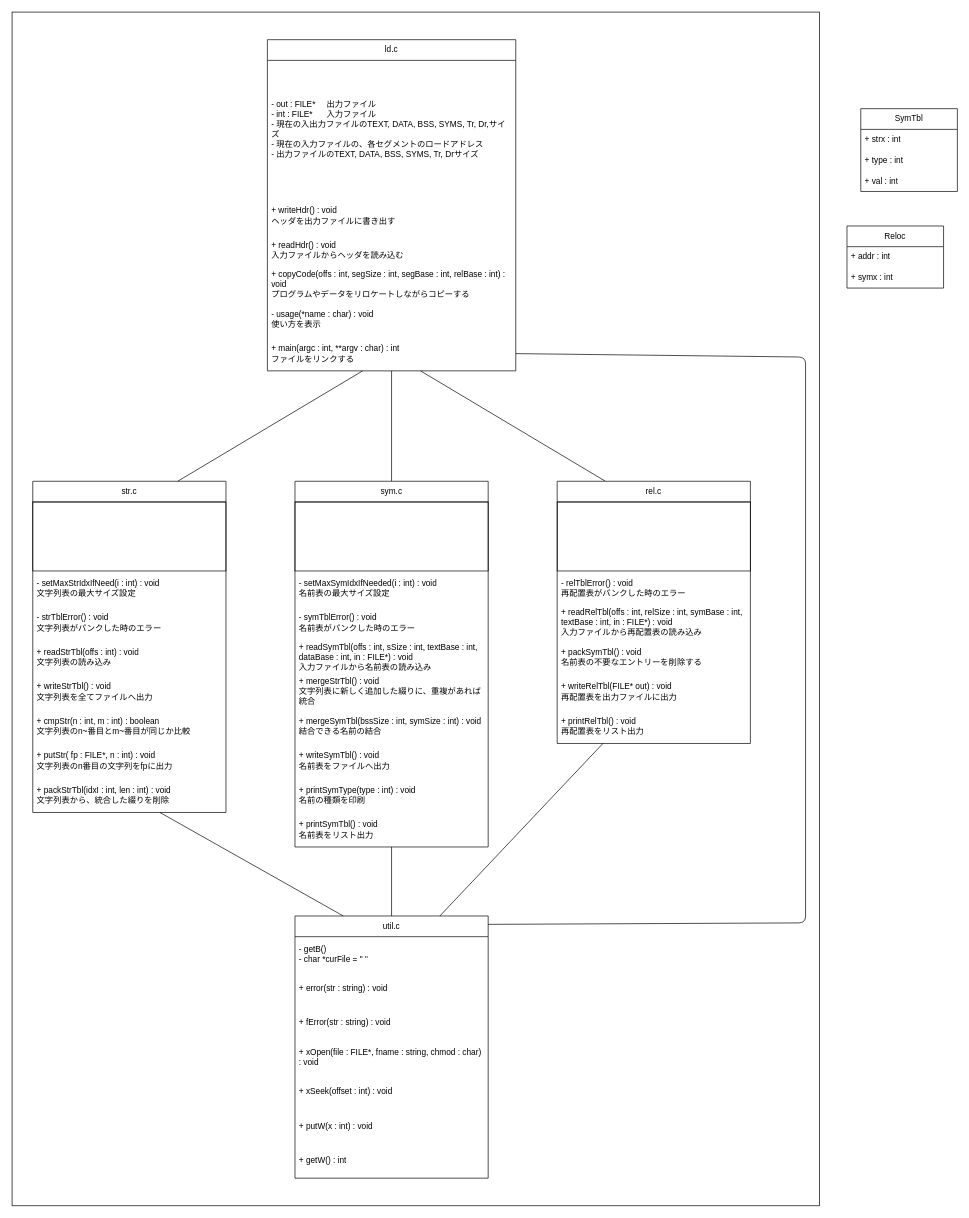
Image size: 969x1218. Some labels were removed from this diagram. Each missing label, with the centre of its shape:
- REL_SIZ = 6000 - relTbl[REL_SIZ] = Reloc: (x=653, y=536)
- STR_SIZ = 16000 - strTbl[ STR_SIZ] : char[] - strIdx = 0 : int: (x=129, y=536)
- SYM_SIZ = 3000 - symTbl[SYM_SIZ] : SymTbl: (x=391, y=536)
